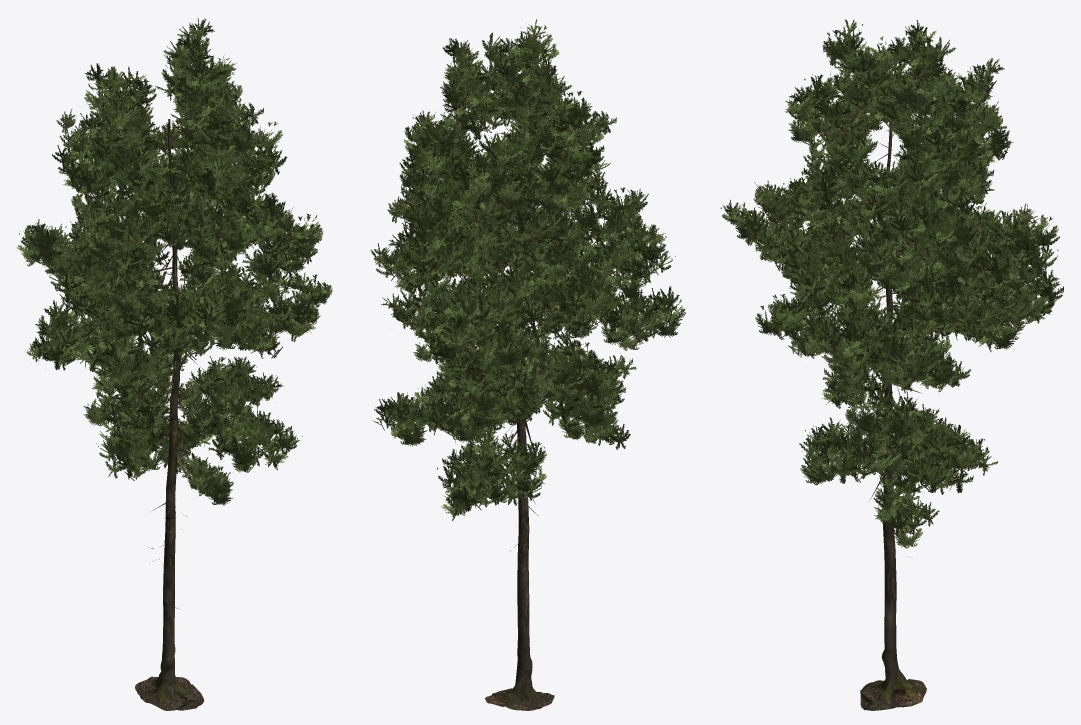
File: conifer-tree-lod0.glb
3 views of the same model, side by side, from view 1: azimuth 30°, elevation 25°; view 2: azimuth 150°, elevation 25°; view 3: azimuth 270°, elevation 25° (orthographic). The views are drawn at different scales.
Visible parts, largest first — view 1: fir_tree_01_b_LOD0; view 2: fir_tree_01_b_LOD0; view 3: fir_tree_01_b_LOD0.
Part boxes in pixels (x1,y1,x2,y2): fir_tree_01_b_LOD0: [16, 18, 332, 710]; fir_tree_01_b_LOD0: [370, 19, 685, 710]; fir_tree_01_b_LOD0: [720, 19, 1063, 710].
Bounding box in the file's own units: 5.95 × 14.21 × 6.53.
4 materials, 4 textured.
